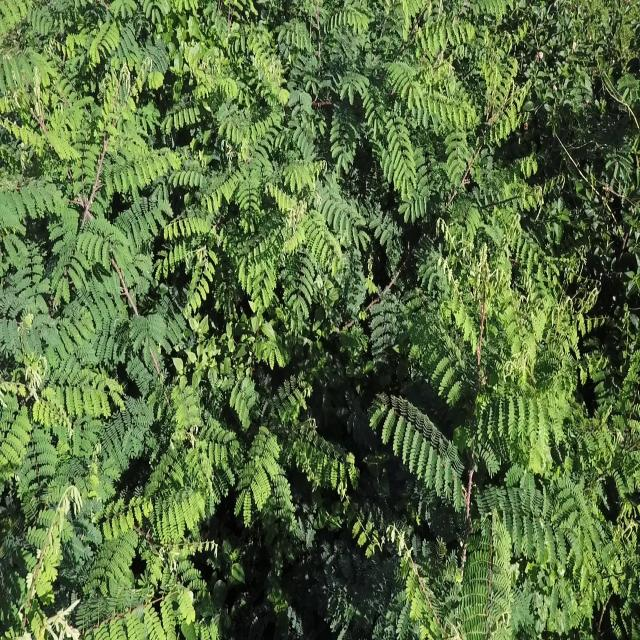Mysore-Thorn-Weed: (0, 0, 199, 477), (371, 213, 558, 629), (183, 0, 353, 356), (200, 372, 361, 530), (346, 0, 468, 206), (0, 507, 194, 631), (448, 15, 540, 225)
